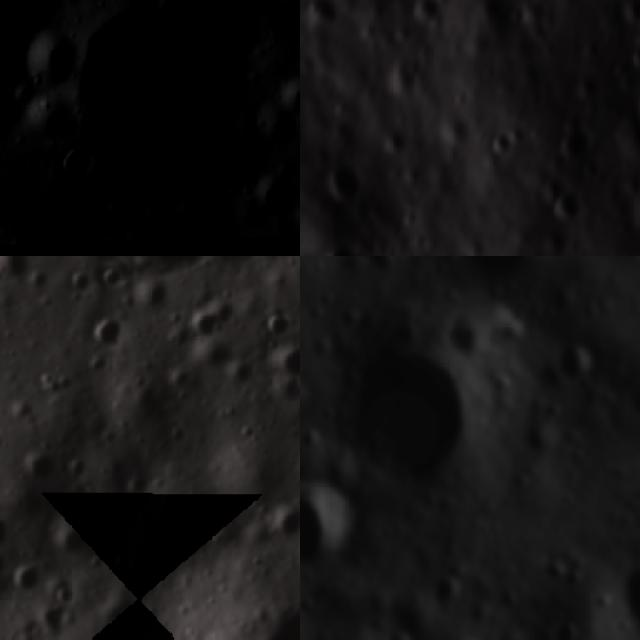crater: (346, 325, 506, 492), (300, 477, 358, 577), (462, 256, 545, 295), (20, 30, 78, 80), (552, 112, 598, 163), (320, 160, 366, 208), (254, 172, 300, 212), (549, 185, 586, 226), (121, 256, 205, 274), (619, 568, 640, 640), (16, 450, 56, 486), (403, 0, 455, 27), (64, 141, 92, 190), (479, 128, 514, 163), (7, 563, 43, 597), (306, 0, 343, 31), (270, 509, 300, 546), (88, 317, 128, 343), (0, 95, 25, 132), (268, 305, 292, 341), (435, 623, 484, 640), (192, 312, 224, 338), (612, 0, 640, 29), (64, 270, 92, 297), (98, 266, 127, 292), (36, 609, 68, 632), (275, 347, 300, 376), (316, 242, 362, 256), (52, 581, 75, 609), (0, 256, 28, 279), (502, 0, 526, 25), (128, 478, 152, 503), (0, 516, 13, 561), (632, 73, 640, 144), (29, 272, 53, 294), (199, 502, 223, 524), (0, 552, 7, 583)
